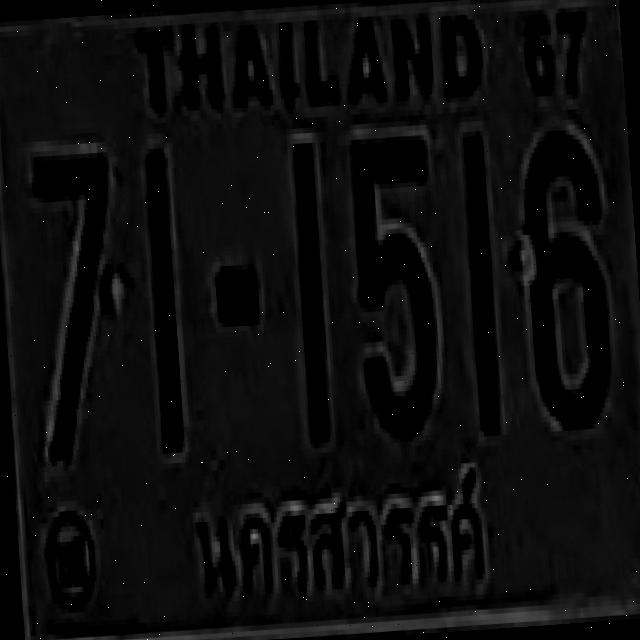1: (141, 145, 185, 451), (458, 134, 502, 434), (288, 142, 331, 442)
5: (346, 129, 443, 439)
6: (517, 128, 613, 427)
7: (30, 149, 126, 464), (30, 150, 124, 433)
NakhonSawan: (171, 449, 497, 624)
